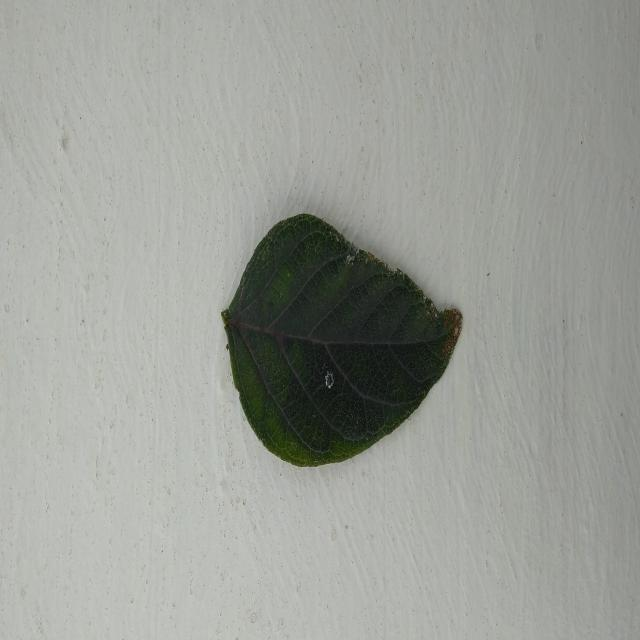leaf: (220, 211, 462, 467)
